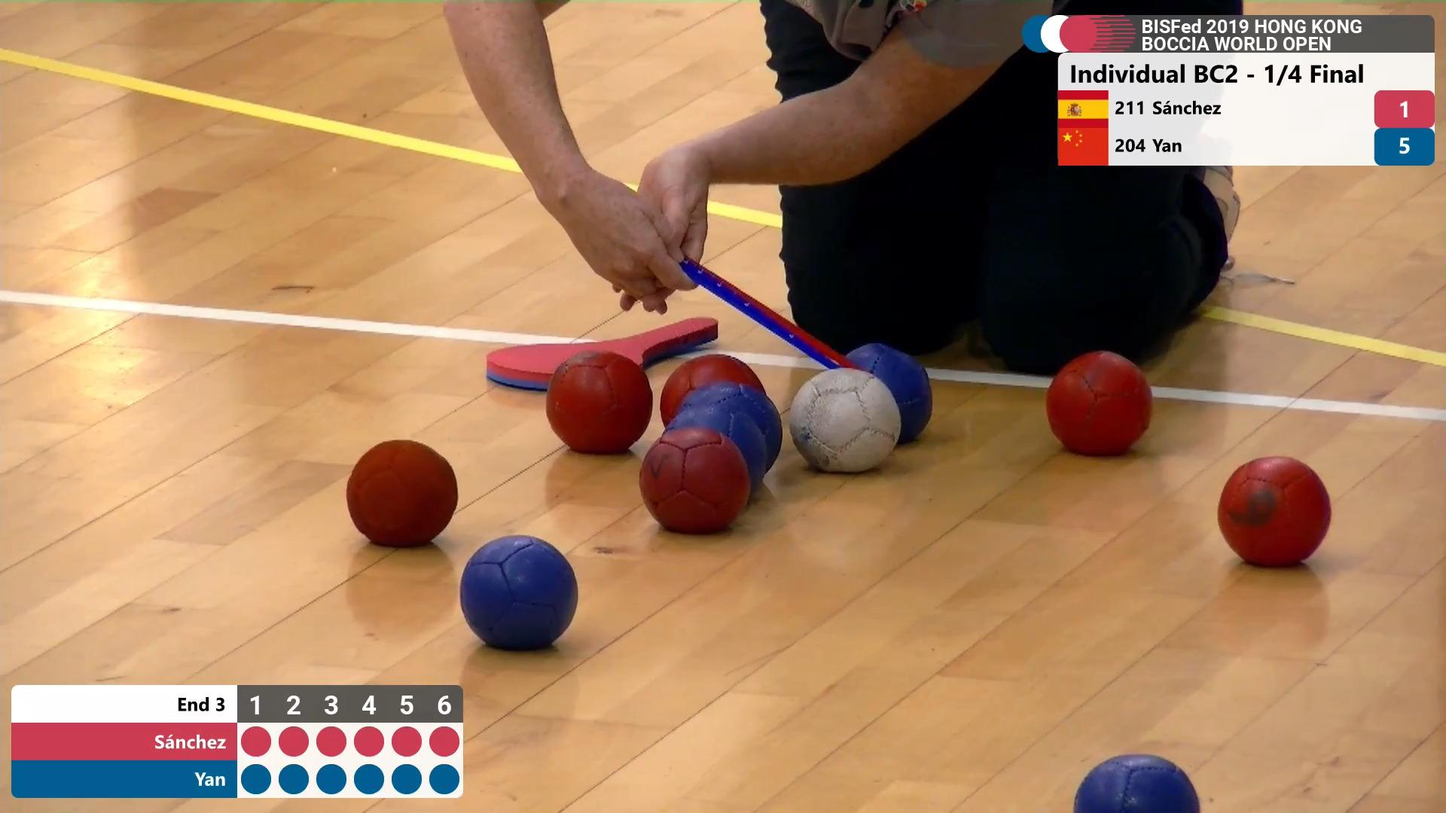blue_ball: (459, 538, 580, 653), (1077, 753, 1199, 813)
red_ball: (1216, 454, 1331, 566), (346, 438, 458, 544), (544, 350, 650, 452), (648, 431, 746, 527), (1051, 354, 1150, 448)
white_ball: (789, 371, 904, 470)
